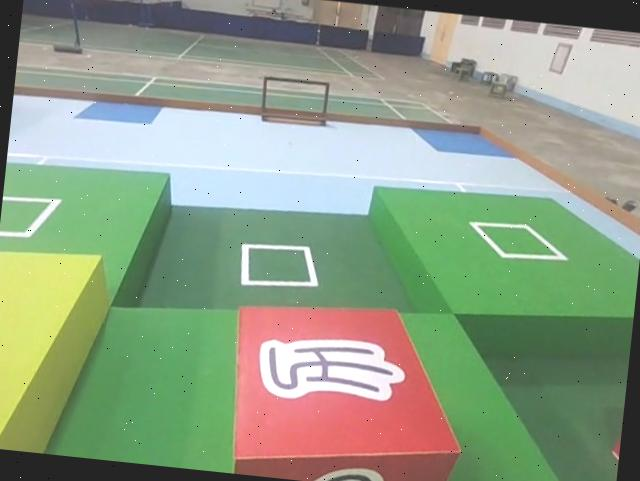R2 Fake: (219, 288, 477, 481)
